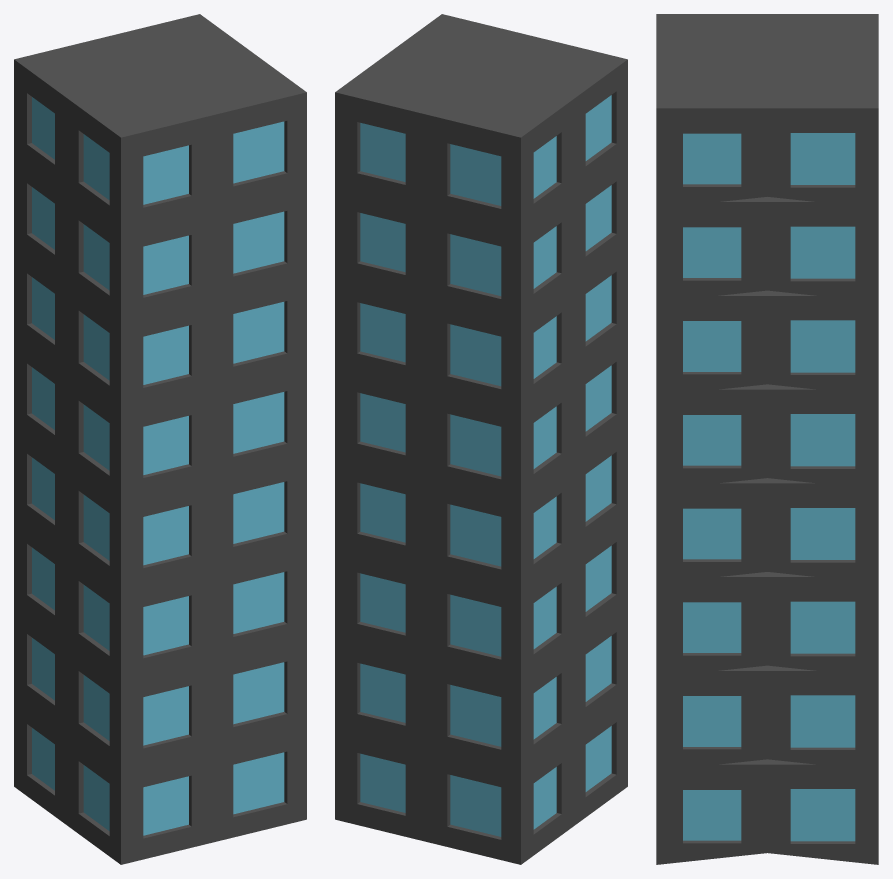
Rendered from Buildingon.fbx.
3 renders of one model, left to right at view 1: azimuth 30°, elevation 25°; view 2: azimuth 150°, elevation 25°; view 3: azimuth 270°, elevation 25°, orthographic. The views are drawn at different scales.
Parts seen in each view (by area): view 1: pCube15; view 2: pCube15; view 3: pCube15.
Part boxes in pixels (x1,y1,x2,y2): pCube15: (14,14,306,864); pCube15: (335,14,627,864); pCube15: (656,14,878,864).
Bounding box in the file's own units: 12.67 × 47.37 × 12.63.
